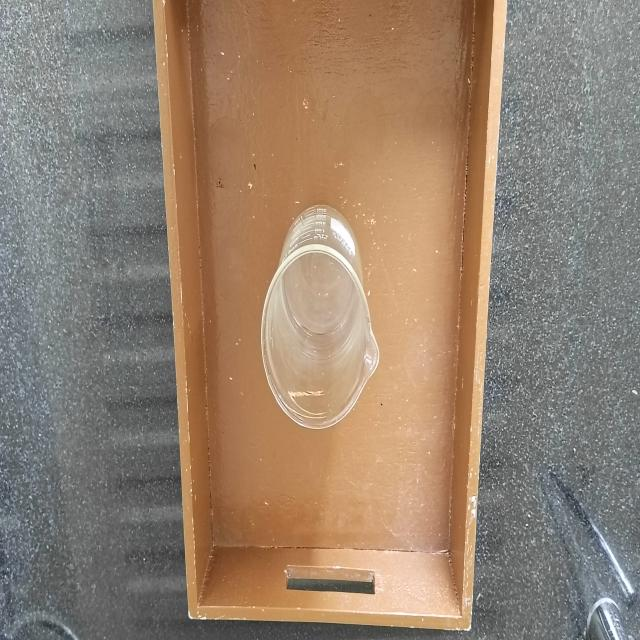beaker: (259, 200, 383, 439)
